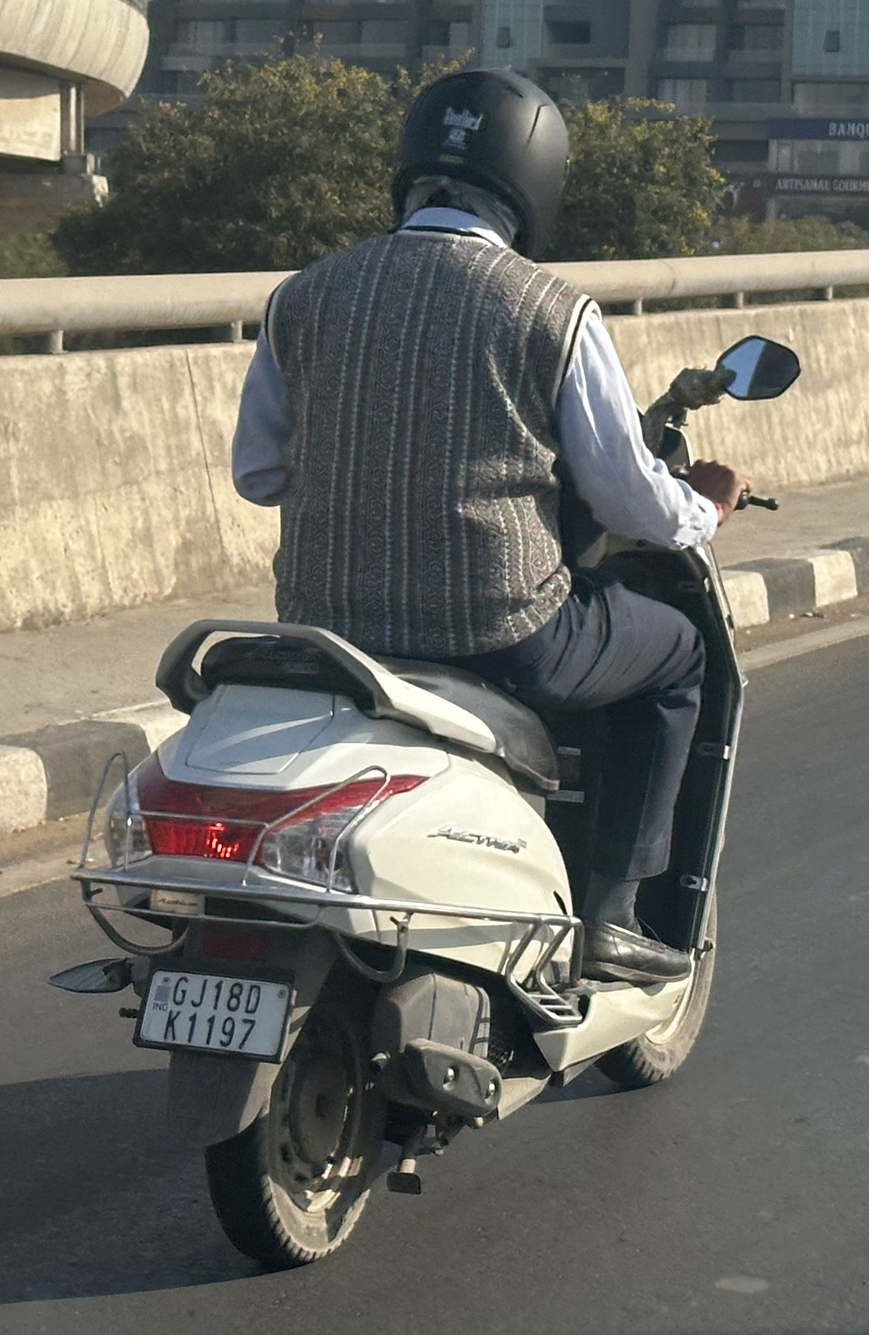BikeWithRider: (45, 60, 812, 1273)
Helmet: (379, 60, 581, 276)
